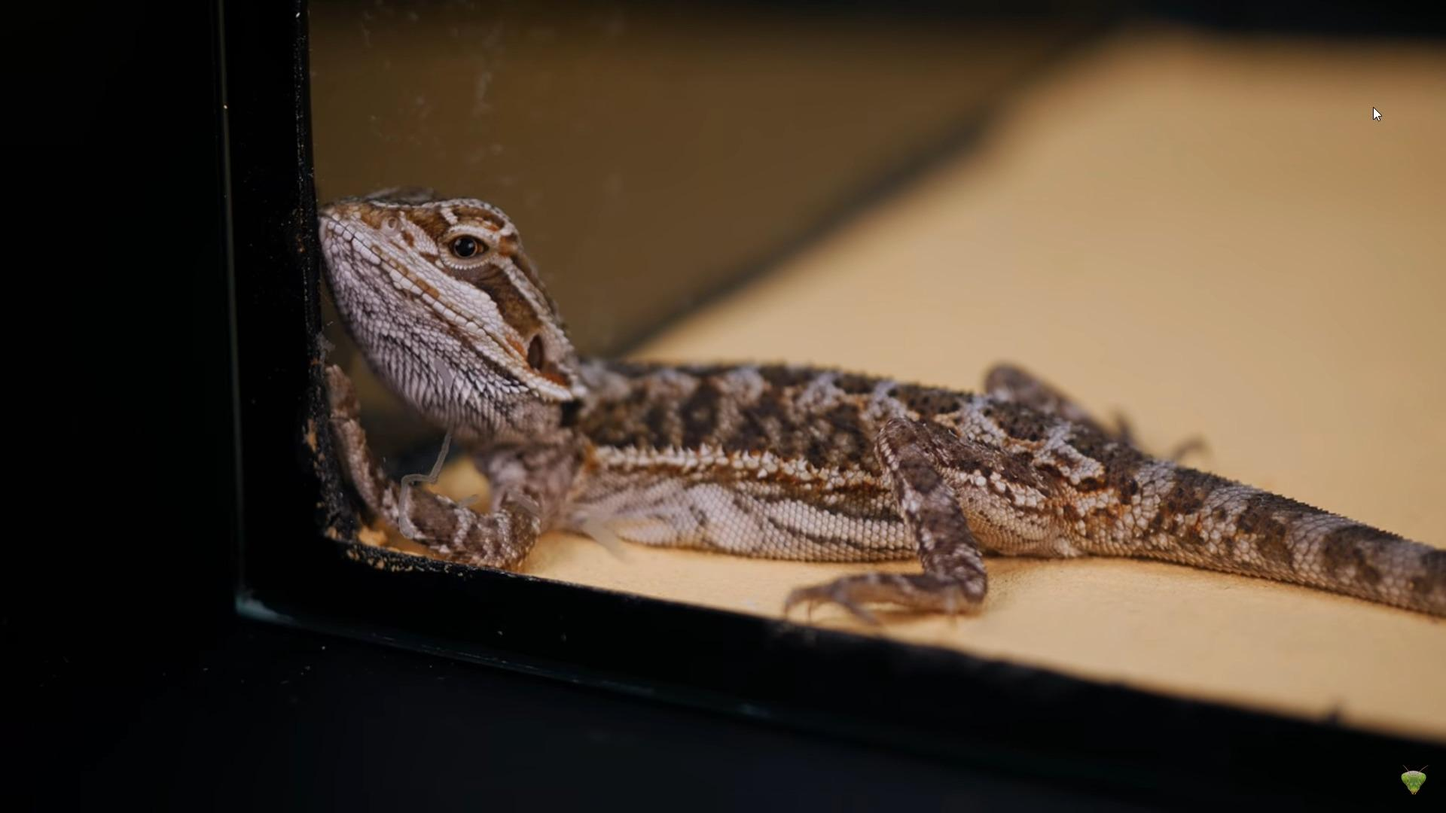lizard: (302, 166, 1386, 650)
